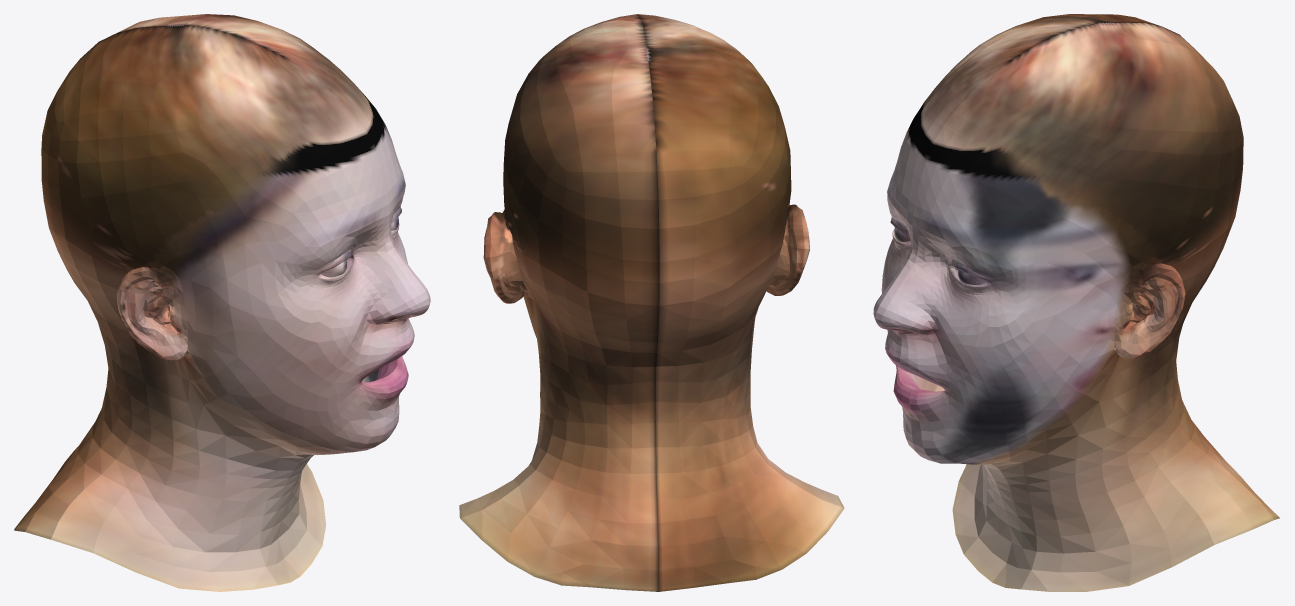
Rendered from cheo1_frame0008.obj.
3 renders of one model, left to right at view 1: azimuth 30°, elevation 25°; view 2: azimuth 150°, elevation 25°; view 3: azimuth 270°, elevation 25°, orthographic.
Bounding box in the file's own units: 0.2138 × 0.3203 × 0.2225.
Materials: 1 (1 with a texture image).
